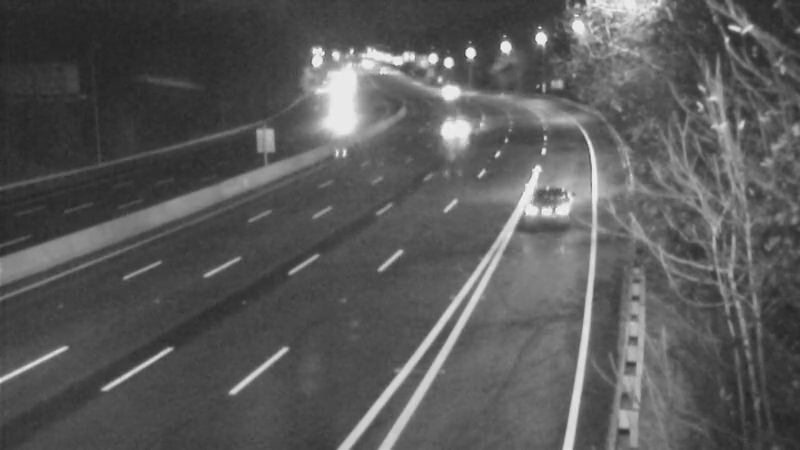vehicle: (512, 171, 592, 251), (426, 65, 476, 115), (431, 99, 481, 149), (305, 84, 355, 134)
